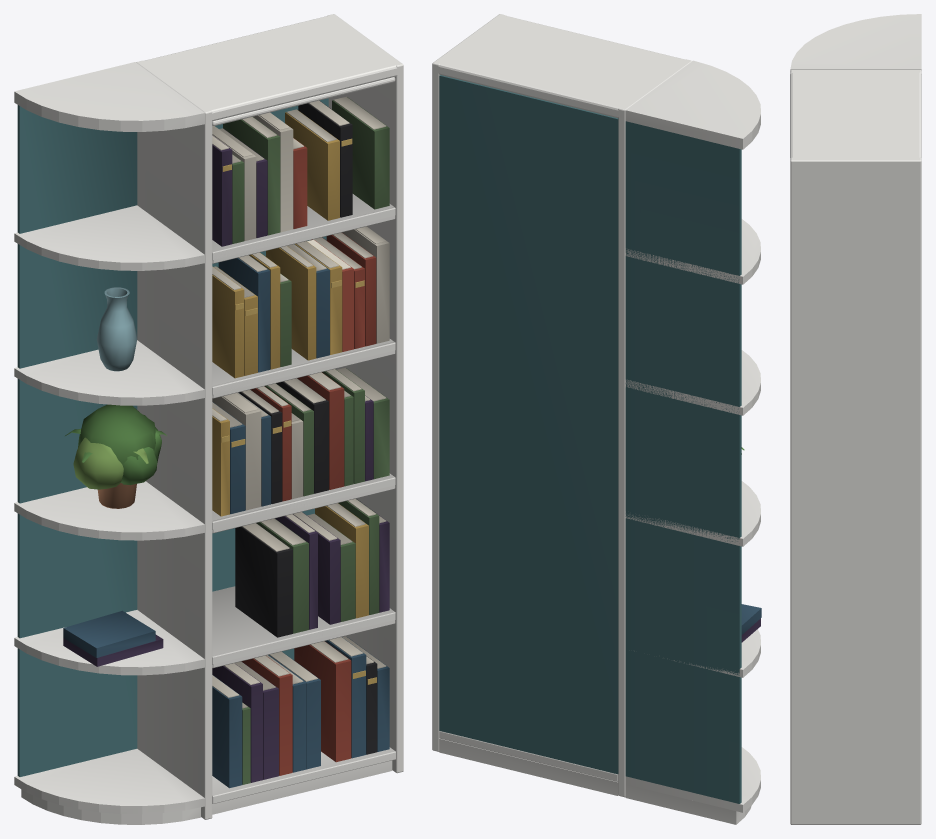
File: bookcaseCorner.glb
3 renders of one model, left to right at view 1: azimuth 30°, elevation 25°; view 2: azimuth 150°, elevation 25°; view 3: azimuth 270°, elevation 25°, orthographic. The views are drawn at different scales.
Parts seen in each view (by area): view 1: bookcaseCorner, book; view 2: bookcaseCorner; view 3: bookcaseCorner.
Boxes of the visible parts, x1=… form: bookcaseCorner: x1=14, y1=14, x2=403, y2=824; book: x1=307, y1=239, x2=353, y2=351; bookcaseCorner: x1=432, y1=14, x2=761, y2=824; bookcaseCorner: x1=790, y1=14, x2=921, y2=824.
Size of the model in its own units: 0.9 by 1.9 by 0.34.
